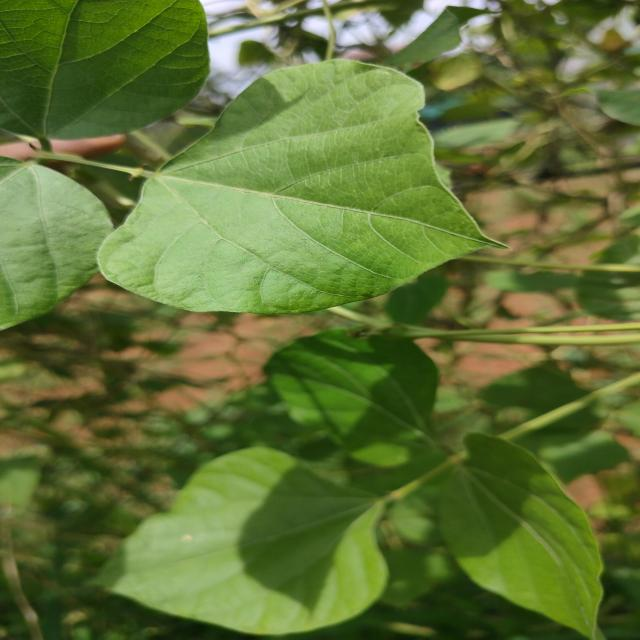Dolicos bean_healthy: (97, 55, 508, 312), (86, 442, 394, 640), (406, 435, 610, 640), (256, 332, 442, 443)
